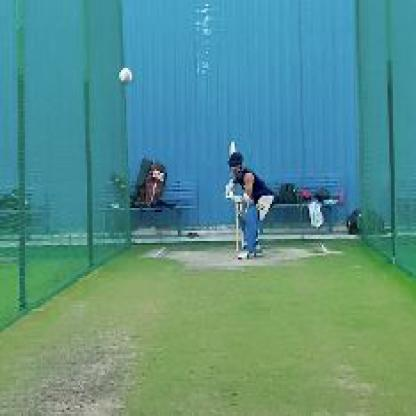ball: (115, 64, 136, 90)
